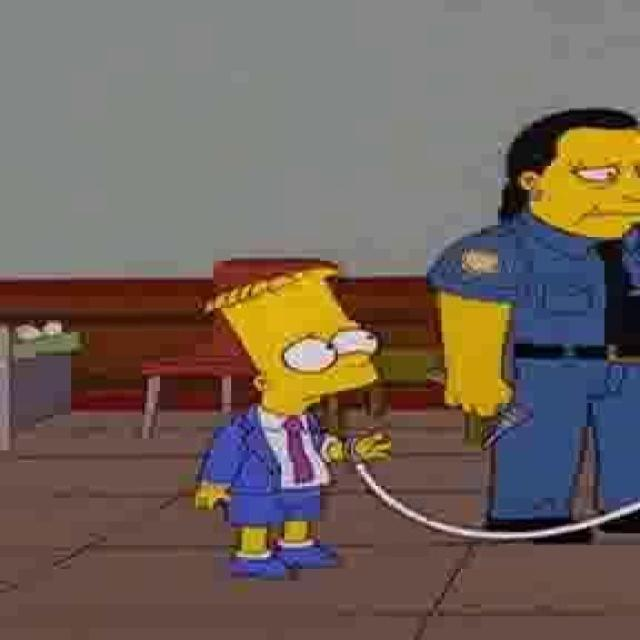Bart Simpson: (204, 266, 384, 415)
